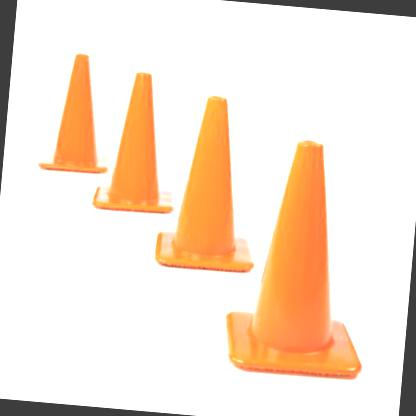cone: (222, 132, 385, 379), (152, 92, 266, 272), (90, 66, 180, 214), (38, 47, 120, 176)
